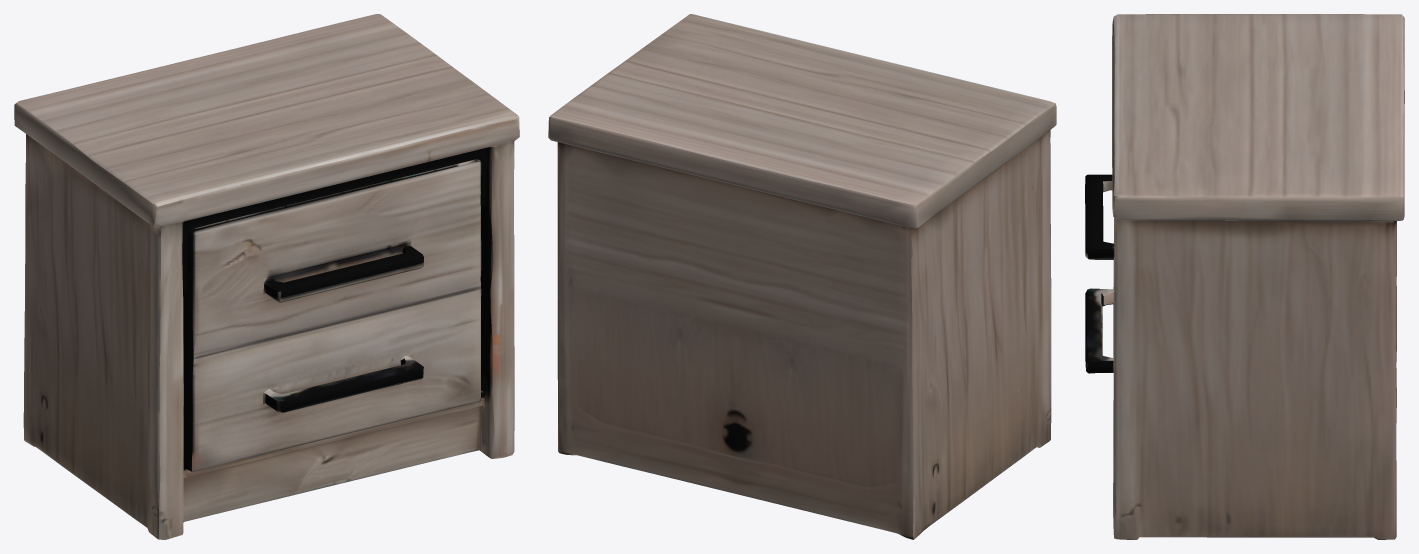
Rendered from TableChevetSalon2_3D_textured.glb.
The picture shows the model from 3 angles, left to right: view 1: azimuth 30°, elevation 25°; view 2: azimuth 150°, elevation 25°; view 3: azimuth 270°, elevation 25°; orthographic projection. The views are drawn at different scales.
Visible parts, largest first — view 1: temp_mesh.ply; view 2: temp_mesh.ply; view 3: temp_mesh.ply.
Part boxes in pixels (x1,y1,x2,y2): temp_mesh.ply: (14, 14, 519, 539); temp_mesh.ply: (548, 14, 1056, 539); temp_mesh.ply: (1085, 14, 1404, 539).
Size of the model in its own units: 1.97 by 1.73 by 1.45.
Materials: 1 (1 with a texture image).
